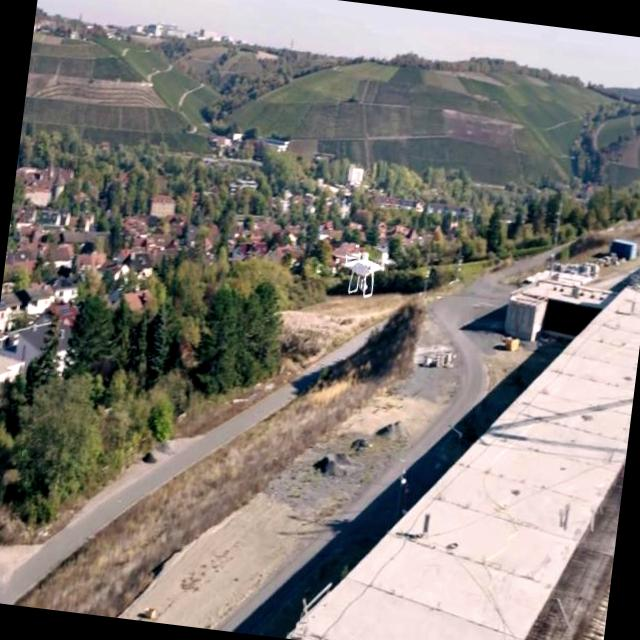drone: (330, 243, 398, 302)
